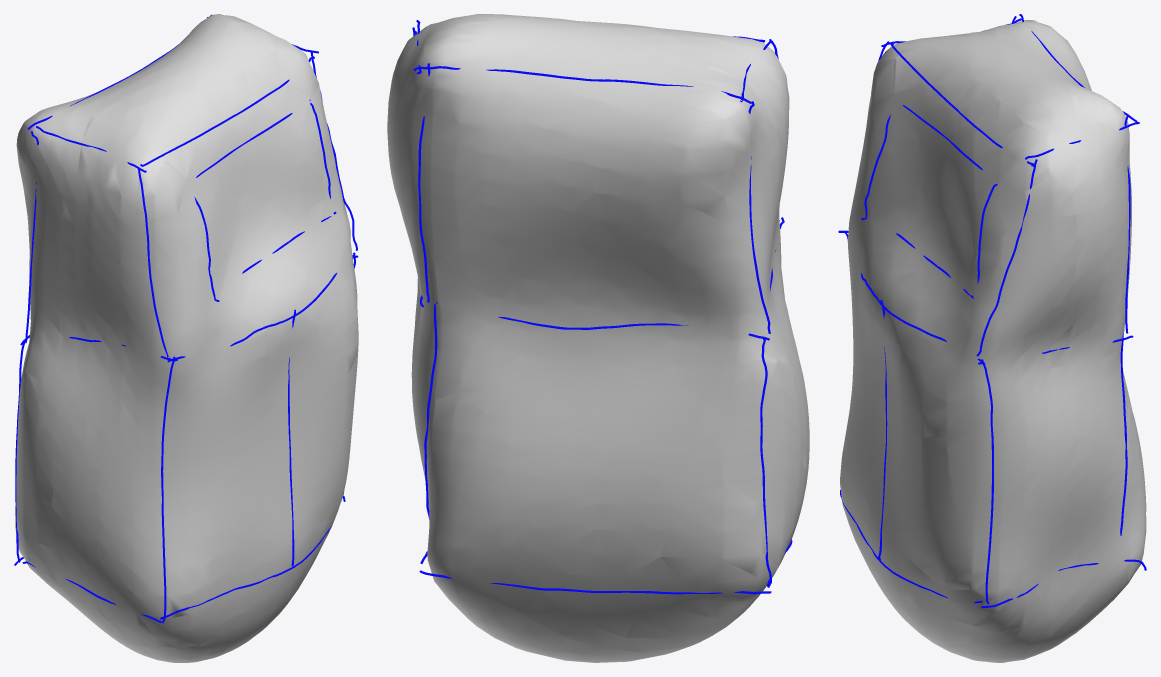
File: scaffold_sketch_P5_trash_sketch_proxy.glb
3 views of the same model, side by side, from view 1: azimuth 30°, elevation 25°; view 2: azimuth 150°, elevation 25°; view 3: azimuth 270°, elevation 25° (orthographic). The views are drawn at different scales.
Visible parts, largest first — view 1: scaffold_sketch_P5_trash_surface, scaffold_sketch_P5_trash; view 2: scaffold_sketch_P5_trash_surface, scaffold_sketch_P5_trash; view 3: scaffold_sketch_P5_trash_surface, scaffold_sketch_P5_trash.
Boxes of the visible parts, x1,y1,x2,y2 form: scaffold_sketch_P5_trash_surface: (15,14,358,662); scaffold_sketch_P5_trash: (14,14,358,623); scaffold_sketch_P5_trash_surface: (387,14,809,662); scaffold_sketch_P5_trash: (412,20,792,594); scaffold_sketch_P5_trash_surface: (840,20,1146,662); scaffold_sketch_P5_trash: (838,14,1146,608).
Bounding box in the file's own units: 0.7532 × 1.25 × 0.5928.
